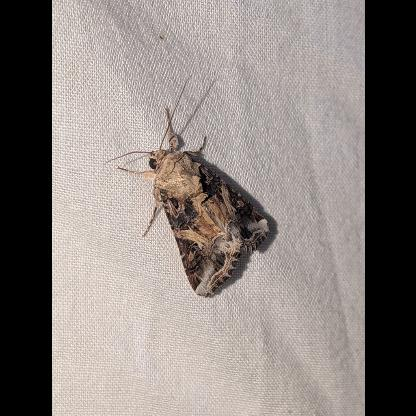Fall Armyworm Moth: (102, 75, 272, 301)
